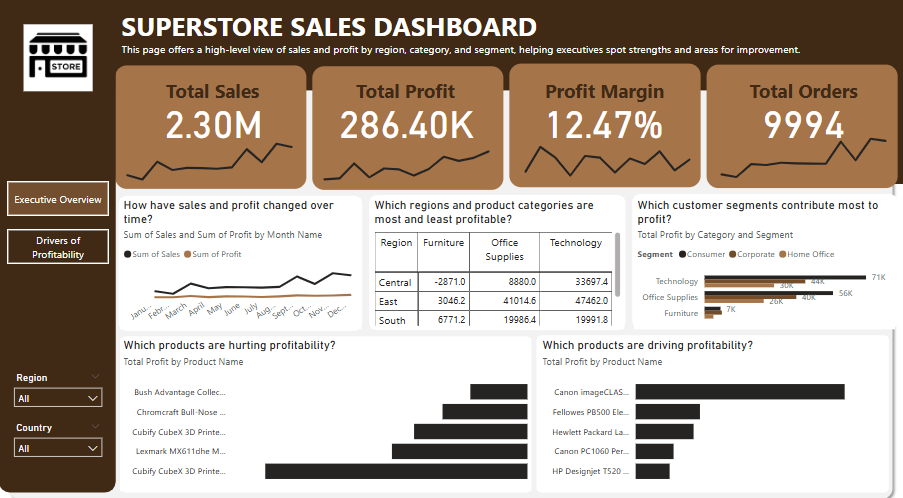

The page's visual inventory and layout, read from the dashboard file:
{"tool":"powerbi","page":{"name":"Executive Overview","canvas":[1280,720],"ordinal":0},"visuals":[{"type":"clusteredBarChart","title":"Which customer segments contribute most to profit?","fields":{"Category":["Orders.Category"],"Y":["Orders.Total Profit"],"Series":["Orders.Segment"]},"box":[900,284.9,369.9,185.7],"z":0},{"type":"textbox","box":[168,10.1,717.3,62.2],"z":1000},{"type":"textbox","box":[168.7,58.1,976.5,29.8],"z":2000},{"type":"slicer","fields":{"Values":["Orders.Region"]},"box":[11.3,525.8,144.6,70.9],"z":3000},{"type":"slicer","fields":{"Values":["Orders.Country"]},"box":[11.3,596.7,144.6,70.9],"z":4000},{"type":"image","box":[29.8,22.7,107.7,127.6],"z":5000},{"type":"actionButton","box":[11.3,260.8,144.6,49.6],"z":6000},{"type":"actionButton","box":[11.3,328.8,144.6,49.6],"z":7000},{"type":"lineChart","title":"How have sales and profit changed over time?","fields":{"Category":["Date.Month Name"],"Y":["Sum(Orders.Sales)","Sum(Orders.Profit)"]},"box":[171.5,284.9,341.6,185.7],"z":8000},{"type":"pivotTable","title":"Which regions and product categories are most and least profitable?","fields":{"Rows":["Orders.Region"],"Values":["Sum(Orders.Profit)"],"Columns":["Orders.Category"]},"box":[527.2,284.9,358.6,185.7],"z":9000},{"type":"lineChart","title":"How have sales and profit changed over time?","fields":{"Y":["Orders.Total Sales"],"Category":["Date.Month Name"]},"box":[168.7,185.7,259.4,89.3],"z":10000},{"type":"textbox","box":[721.4,109.1,273.5,53.9],"z":11000},{"type":"lineChart","title":"How have sales and profit changed over time?","fields":{"Y":["Orders.Profit Margin"],"Category":["Date.Month Name"]},"box":[732.8,185.7,259.4,89.3],"z":12000},{"type":"card","title":"Total Quantity","fields":{"Values":["Orders.Profit Margin"]},"box":[721.4,136.1,270.7,75.1],"z":13000},{"type":"card","title":"Total Quantity","fields":{"Values":["Orders.Order Count"]},"box":[1004.9,136.1,270.7,75.1],"z":14000},{"type":"card","title":"Total Quantity","fields":{"Values":["Orders.Total Sales"]},"box":[168.7,136.1,270.7,75.1],"z":15000},{"type":"card","title":"Total Quantity","fields":{"Values":["Orders.Total Profit"]},"box":[442.2,136.1,270.7,75.1],"z":16000},{"type":"textbox","box":[1003.5,109.1,273.5,53.9],"z":17000},{"type":"textbox","box":[439.4,109.1,273.5,53.9],"z":18000},{"type":"textbox","box":[165.8,109.1,273.5,53.9],"z":19000},{"type":"lineChart","title":"How have sales and profit changed over time?","fields":{"Category":["Date.Month Name"],"Y":["Orders.Order Count"]},"box":[1010.6,185.7,259.4,89.3],"z":20000},{"type":"lineChart","title":"How have sales and profit changed over time?","fields":{"Category":["Date.Month Name"],"Y":["Orders.Total Profit"]},"box":[447.9,185.7,259.4,89.3],"z":21000},{"type":"clusteredBarChart","title":"Which products are driving profitability?","fields":{"Y":["Orders.Total Profit"],"Category":["Orders.Product Name"]},"box":[765.4,483.3,494.6,216.9],"z":22000},{"type":"clusteredBarChart","title":"Which products are hurting profitability?","fields":{"Y":["Orders.Total Profit"],"Category":["Orders.Product Name"]},"box":[171.5,483.3,582.5,216.9],"z":23000}]}

Visuals, with their boxes on the page's 1280x720 design canvas (x1, y1, x2, y2). These are canvas units, not pixel positions in the 903x498 screenshot, which may show the page scaled, cropped or inside an application window:
"Which customer segments contribute most to profit?" clusteredBarChart: [900,285,1270,471]
textbox: [168,10,885,72]
textbox: [169,58,1145,88]
slicer - Orders.Region: [11,526,156,597]
slicer - Orders.Country: [11,597,156,668]
image: [30,23,138,150]
actionButton: [11,261,156,310]
actionButton: [11,329,156,378]
"How have sales and profit changed over time?" lineChart: [172,285,513,471]
"Which regions and product categories are most and least profitable?" pivotTable: [527,285,886,471]
"How have sales and profit changed over time?" lineChart: [169,186,428,275]
textbox: [721,109,995,163]
"How have sales and profit changed over time?" lineChart: [733,186,992,275]
"Total Quantity" card: [721,136,992,211]
"Total Quantity" card: [1005,136,1276,211]
"Total Quantity" card: [169,136,439,211]
"Total Quantity" card: [442,136,713,211]
textbox: [1004,109,1277,163]
textbox: [439,109,713,163]
textbox: [166,109,439,163]
"How have sales and profit changed over time?" lineChart: [1011,186,1270,275]
"How have sales and profit changed over time?" lineChart: [448,186,707,275]
"Which products are driving profitability?" clusteredBarChart: [765,483,1260,700]
"Which products are hurting profitability?" clusteredBarChart: [172,483,754,700]
